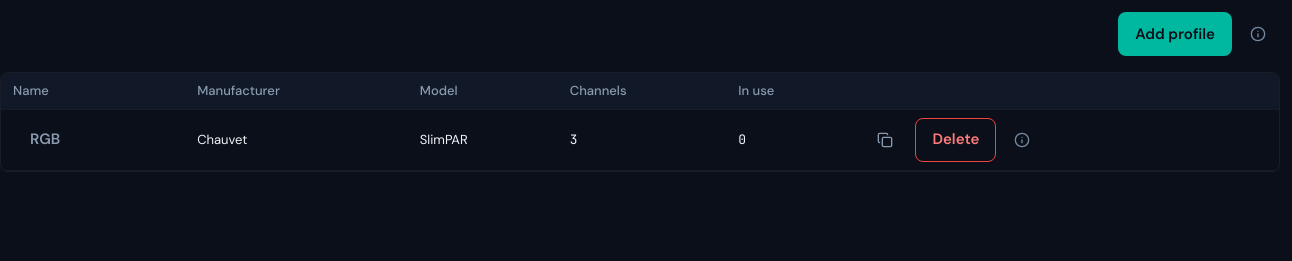
ProfilesTab duplicate-and-edit (§15.9, §21.18) › shows the reference list when deleting a profile still in use
The width and height of the screenshot is (1292, 261).
Click the button "Delete" at point(956, 140), box [916,118,996,162]
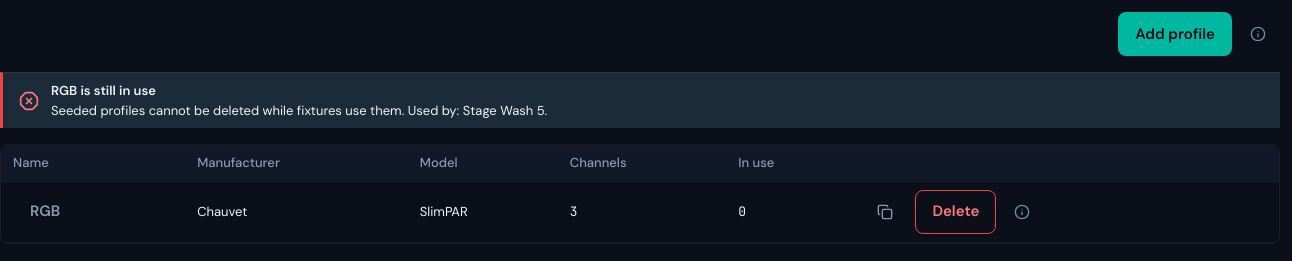
Check: the text "RGB is still in use" is shown, box [51,82,156,99]
Check: the text "Stage Wash 5" is shown, box [404,102,547,118]
